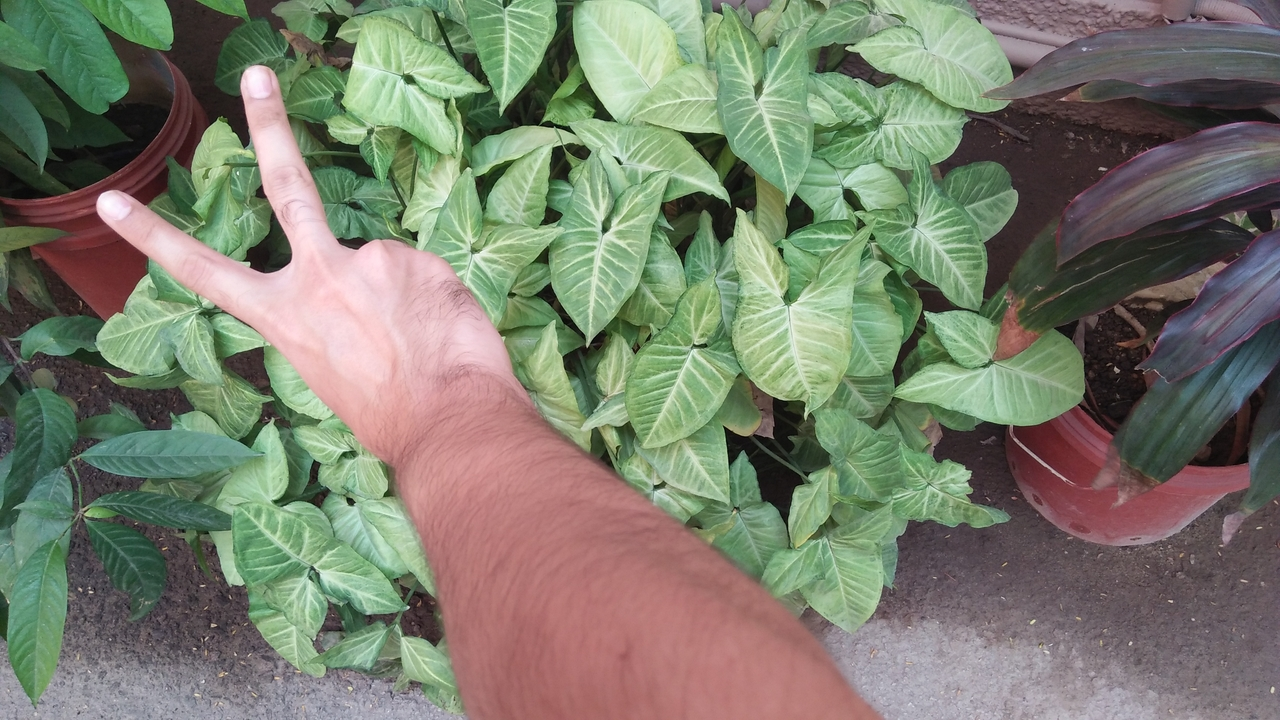fingertip: (226, 56, 278, 106), (90, 178, 135, 235)
